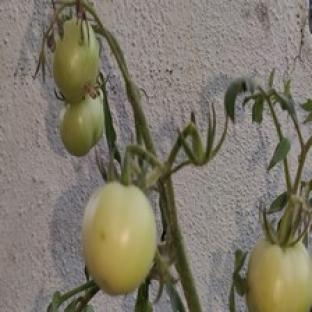Tomato: (83, 182, 155, 295), (247, 240, 311, 311), (53, 19, 100, 103), (60, 92, 104, 155)
